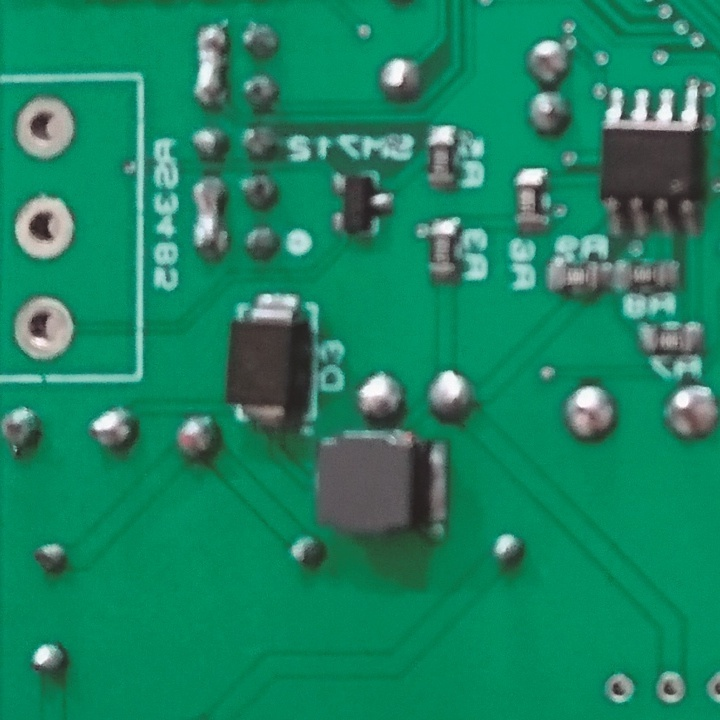F: (8, 292, 78, 366), (11, 188, 76, 266), (12, 95, 76, 161), (600, 670, 636, 707), (652, 667, 685, 706), (701, 668, 720, 706)
P: (188, 172, 227, 262), (191, 21, 227, 115)
